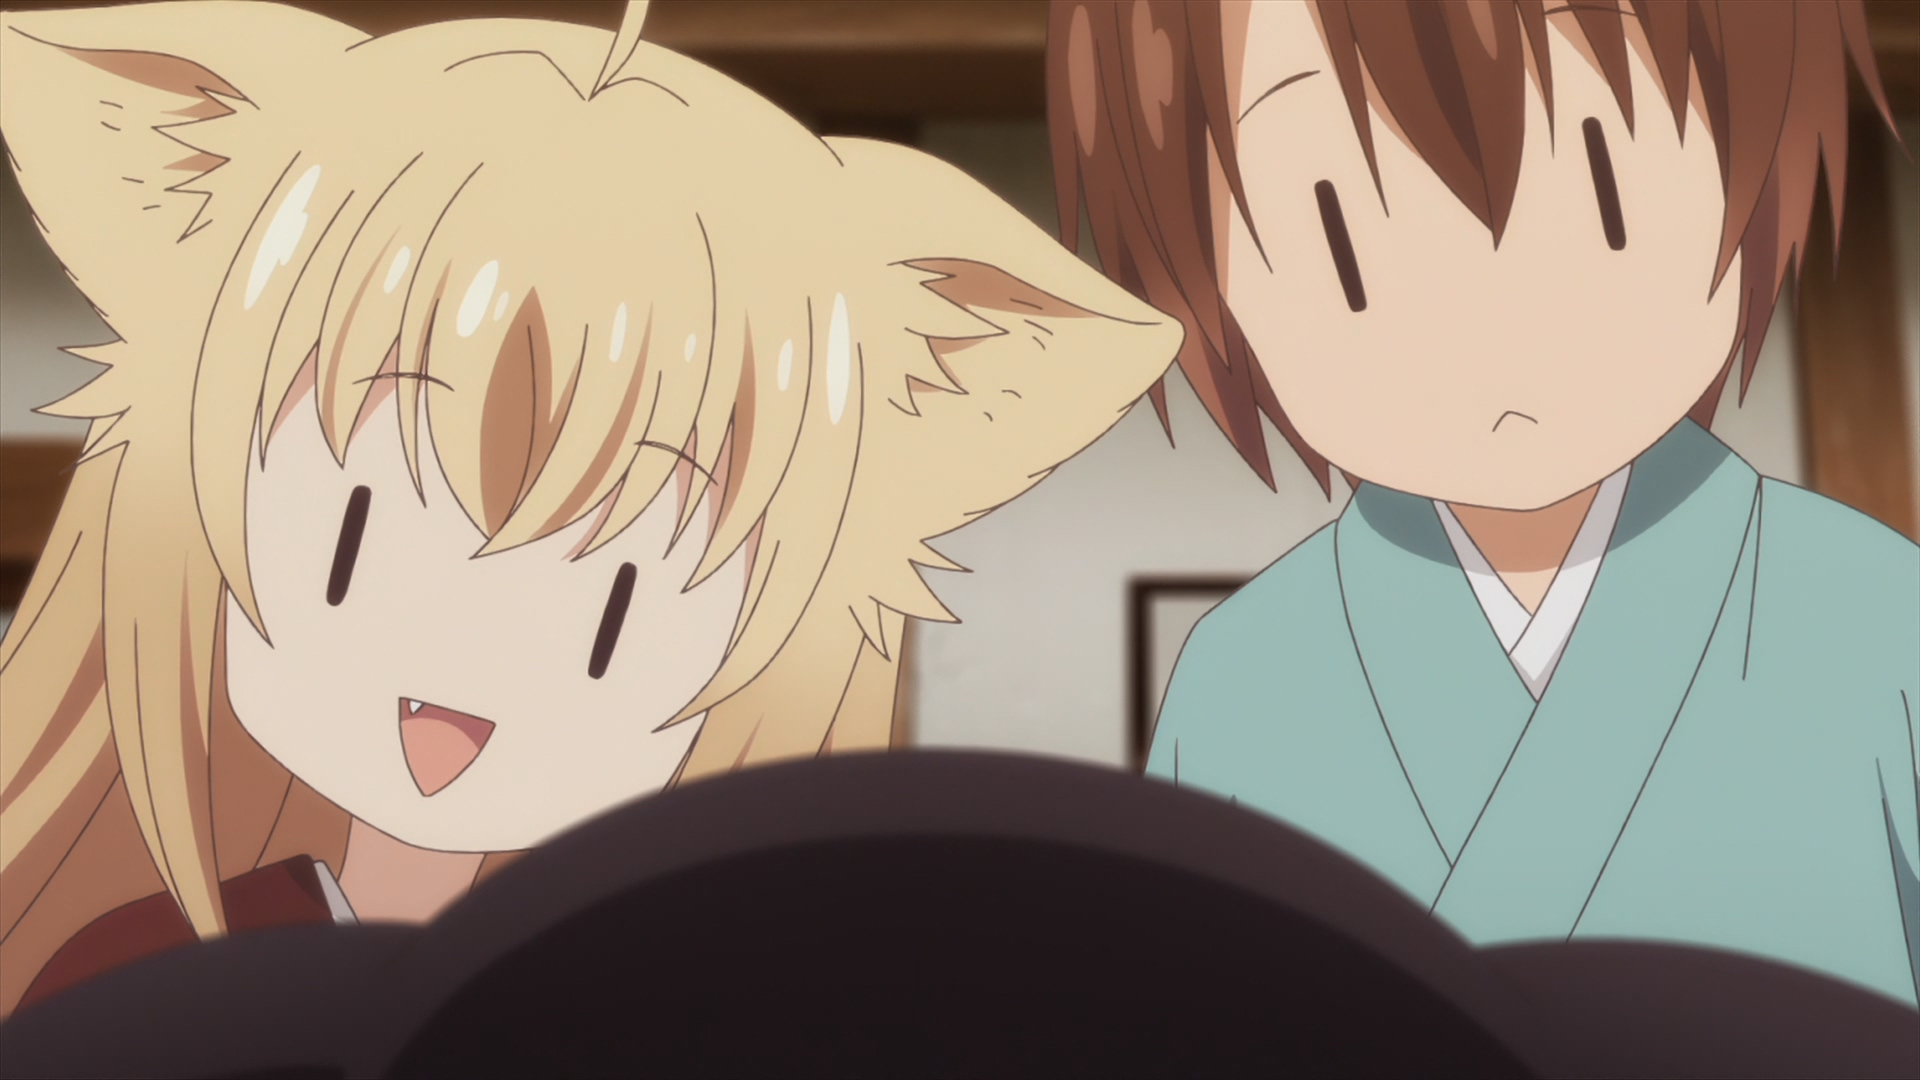枣: (1044, 1, 1920, 1000)
柚: (1, 1, 1184, 1015)
